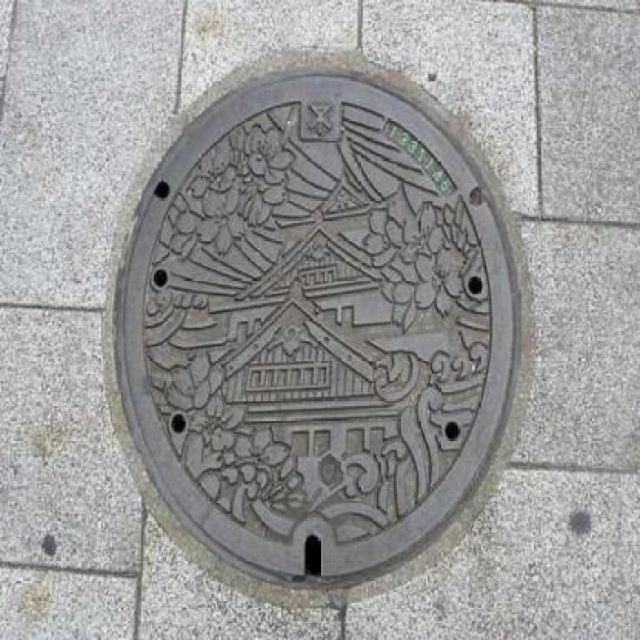Manhole: (99, 53, 550, 610)
